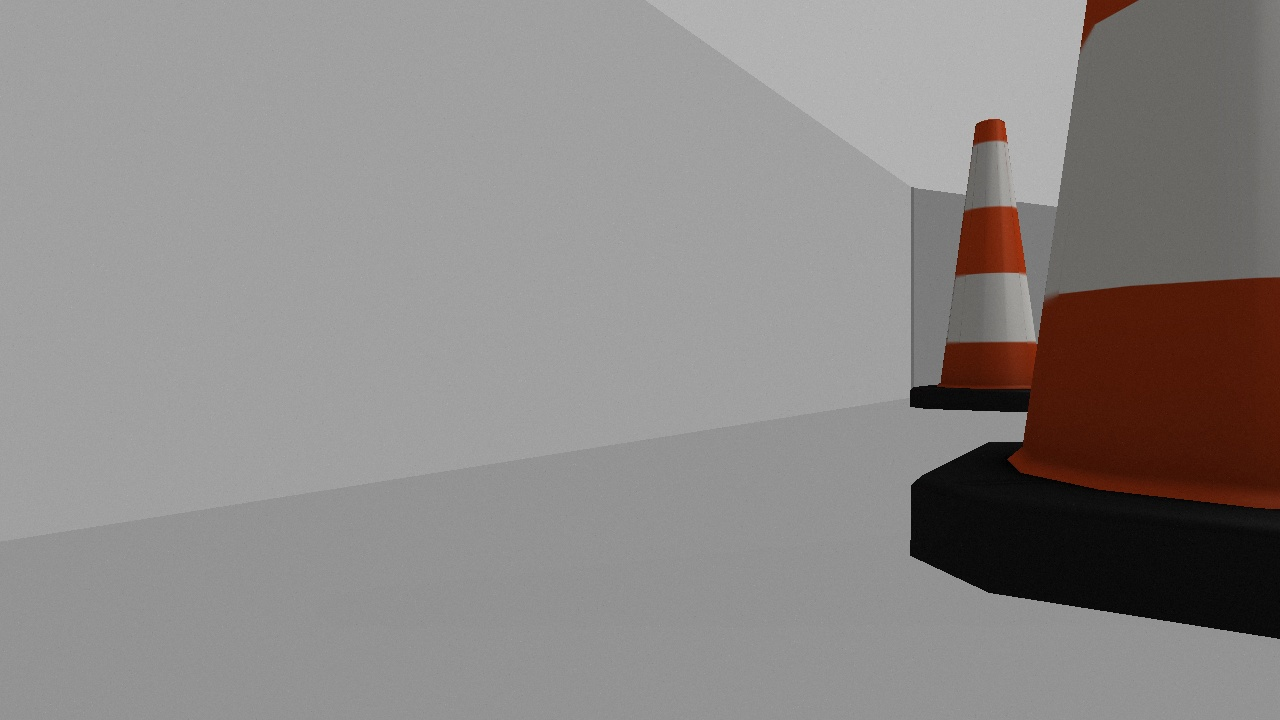barricade: (910, 1, 1280, 640), (909, 99, 1064, 412)
